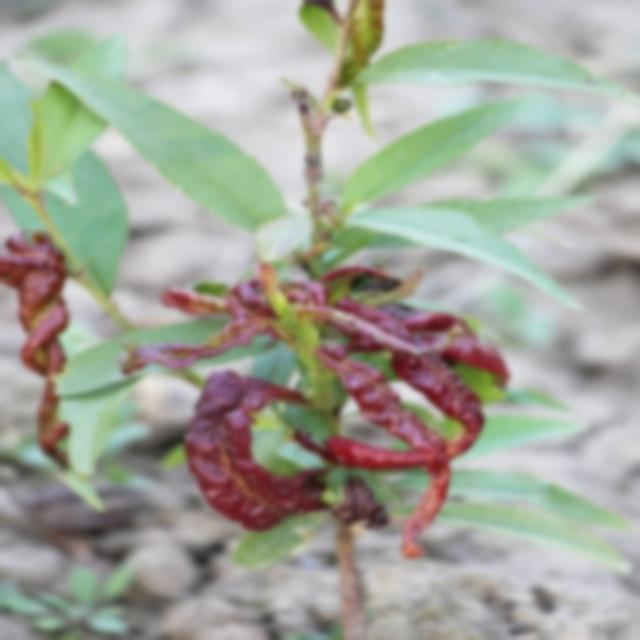leaf_curl: (308, 269, 494, 506), (0, 220, 119, 471), (177, 343, 285, 539)
